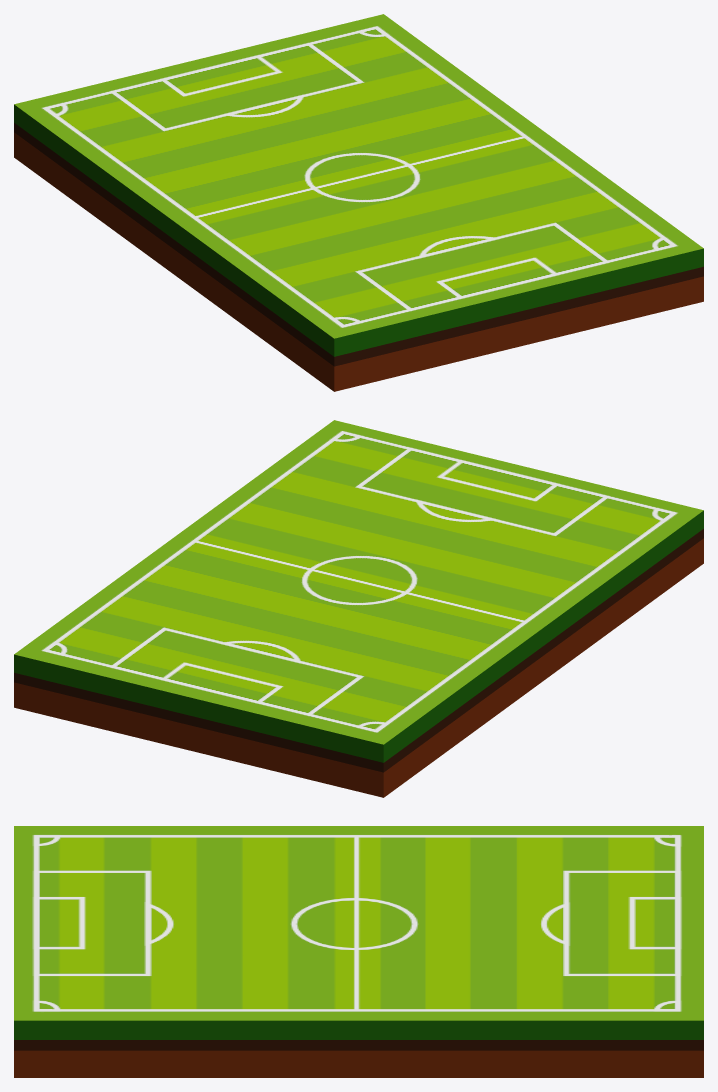
File: field.obj
3 views of the same model, one above another, from view 1: azimuth 30°, elevation 25°; view 2: azimuth 150°, elevation 25°; view 3: azimuth 270°, elevation 25° (orthographic). The views are drawn at different scales.
Parts seen in each view (by area): view 1: Cube_football_field.001, Cube_ground_light_football_field.001, Cube_grass_dark_football_field.001, Cube_ground_dark_football_field.001; view 2: Cube_football_field.001, Cube_ground_light_football_field.001, Cube_grass_dark_football_field.001, Cube_ground_dark_football_field.001; view 3: Cube_football_field.001, Cube_ground_light_football_field.001, Cube_grass_dark_football_field.001, Cube_ground_dark_football_field.001.
Part boxes in pixels (<box>): Cube_football_field.001: <box>14,14,703,338</box>; Cube_ground_light_football_field.001: <box>14,132,703,391</box>; Cube_grass_dark_football_field.001: <box>14,104,703,356</box>; Cube_ground_dark_football_field.001: <box>14,123,703,366</box>; Cube_football_field.001: <box>14,420,703,744</box>; Cube_ground_light_football_field.001: <box>14,538,703,797</box>; Cube_grass_dark_football_field.001: <box>14,510,703,762</box>; Cube_ground_dark_football_field.001: <box>14,529,703,772</box>; Cube_football_field.001: <box>14,826,703,1020</box>; Cube_ground_light_football_field.001: <box>14,1050,703,1077</box>; Cube_grass_dark_football_field.001: <box>14,1020,703,1039</box>; Cube_ground_dark_football_field.001: <box>14,1040,703,1050</box>.
Size of the model in its own units: 8 by 1.1 by 12.
Materials: 5 (1 with a texture image).
